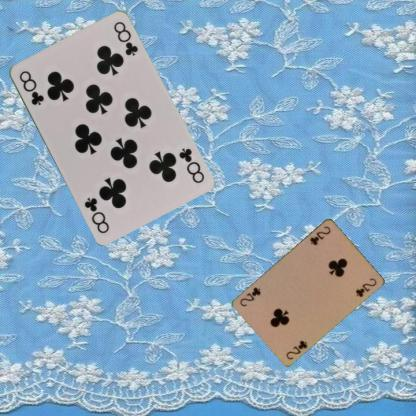2c: (307, 223, 332, 246), (284, 338, 308, 360)
8c: (176, 144, 206, 184), (16, 67, 45, 107)
